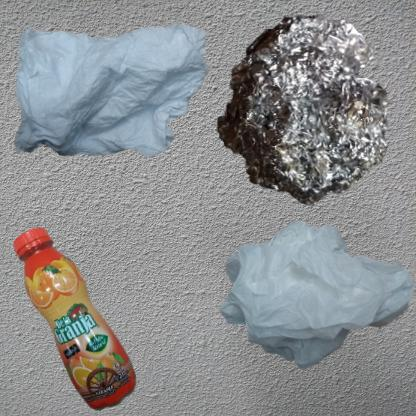aluminio: (213, 10, 392, 209)
bolsa: (213, 213, 416, 385)
botella: (10, 213, 160, 416)
papel: (10, 10, 216, 169)
